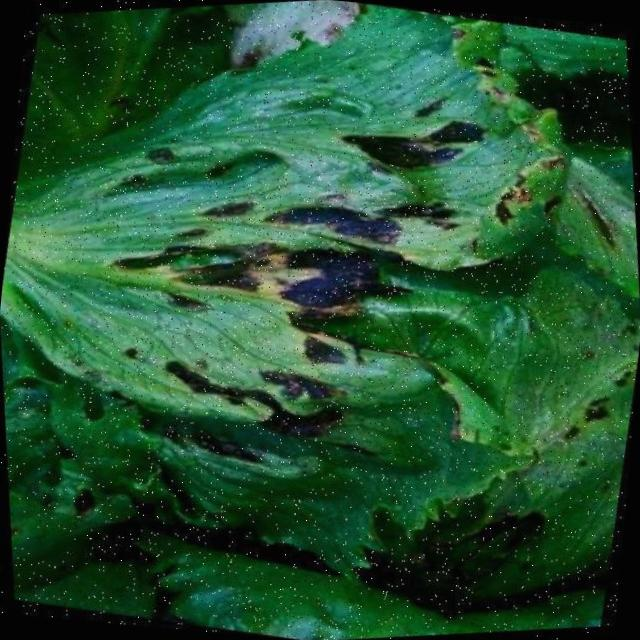Bacterial: (0, 12, 531, 517)
